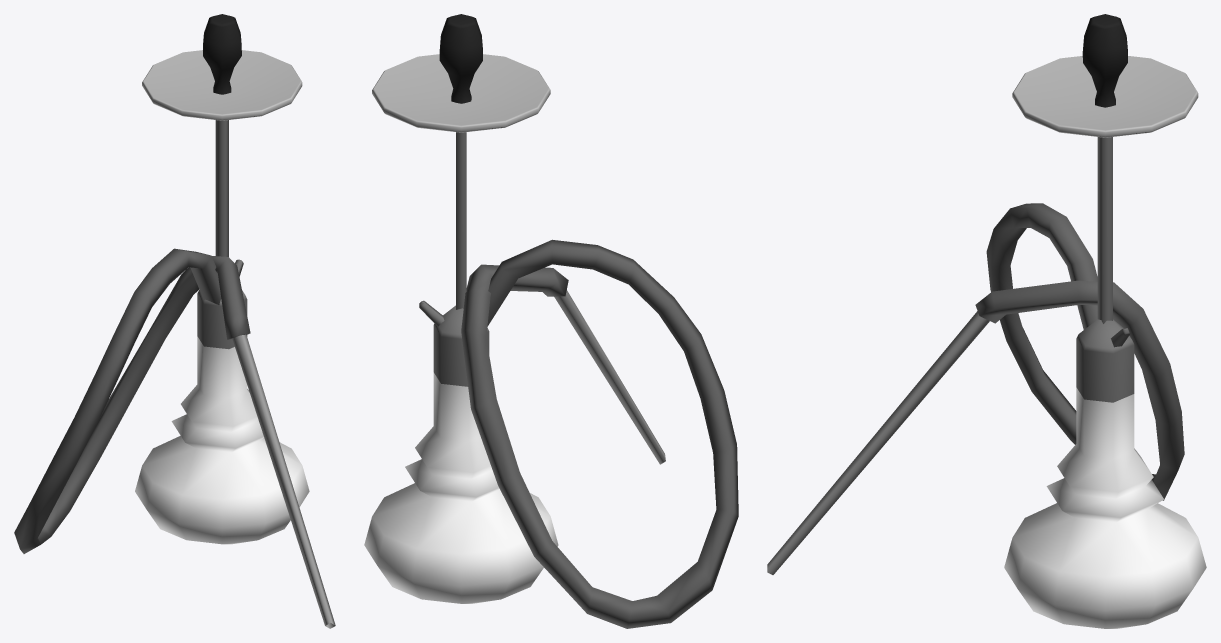
File: entertainment_002.fbx
The picture shows the model from 3 angles, left to right: view 1: azimuth 30°, elevation 25°; view 2: azimuth 150°, elevation 25°; view 3: azimuth 270°, elevation 25°; orthographic projection. The views are drawn at different scales.
Parts seen in each view (by area): view 1: entertainment_002; view 2: entertainment_002; view 3: entertainment_002.
Boxes of the visible parts, left/top/right/bottom form: entertainment_002: left=14, top=14, right=335, bottom=628; entertainment_002: left=364, top=14, right=738, bottom=628; entertainment_002: left=767, top=14, right=1206, bottom=628.
Bounding box in the file's own units: 52.13 × 58.36 × 86.62.
